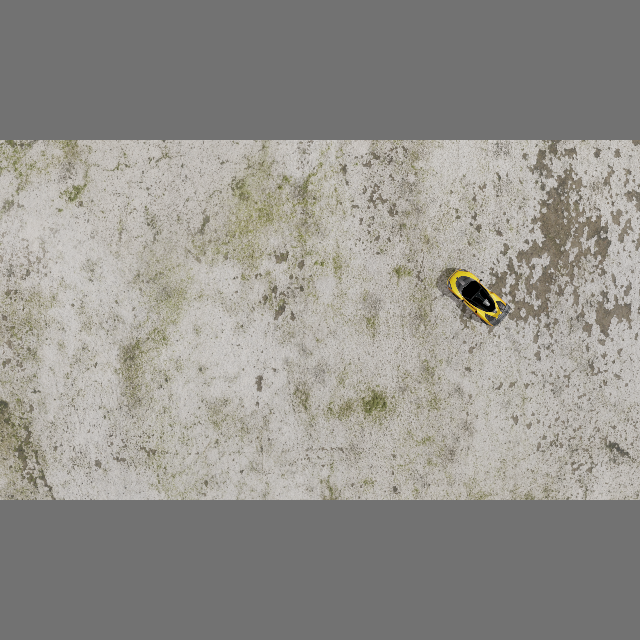car: (441, 262, 515, 330)
